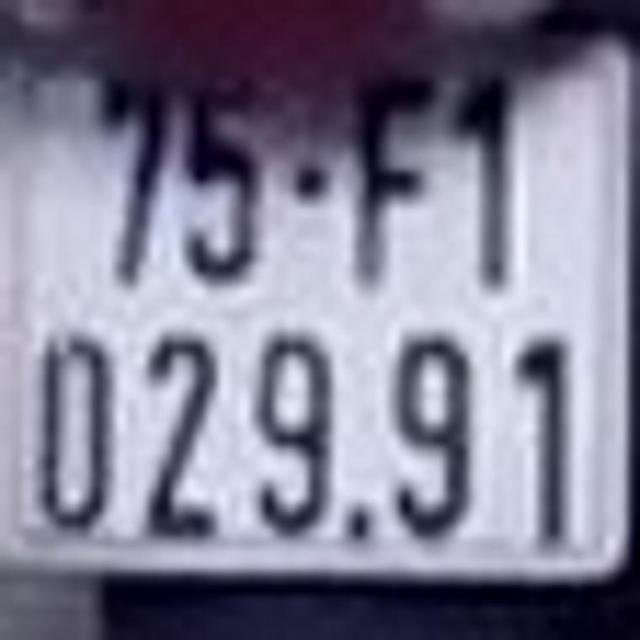0: (37, 342, 116, 526)
1: (452, 76, 519, 294), (508, 338, 576, 540)
2: (144, 330, 219, 537)
5: (183, 77, 261, 282)
7: (96, 75, 164, 288)
9: (379, 323, 477, 536), (255, 334, 339, 534)
F: (347, 76, 432, 290)
